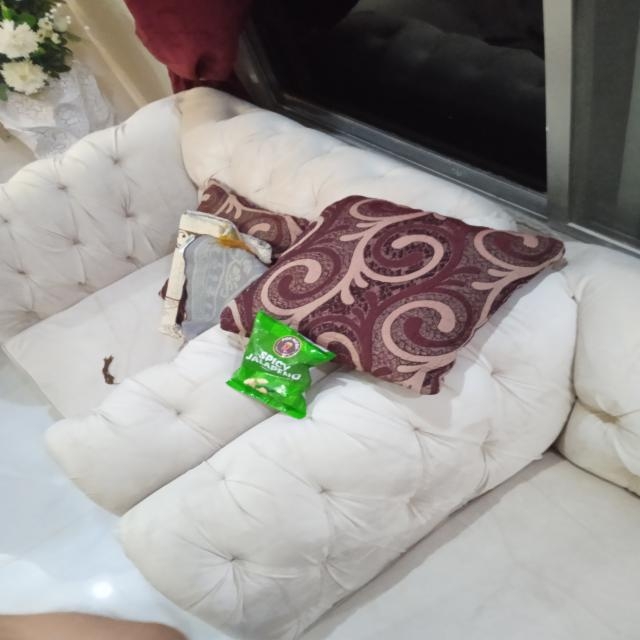Plastic: (222, 309, 342, 426)
